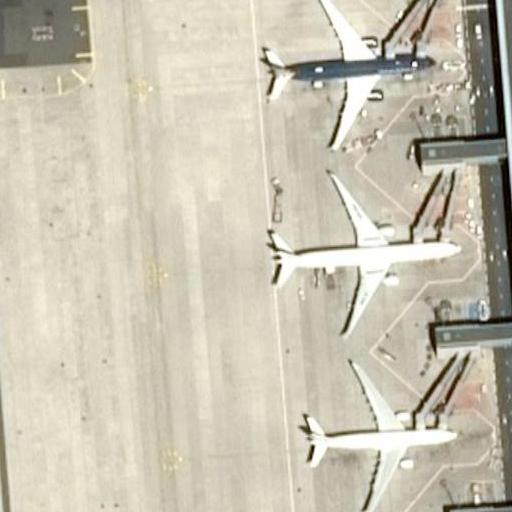Aircraft: (260, 185, 458, 335), (249, 0, 437, 148), (281, 356, 458, 506)
